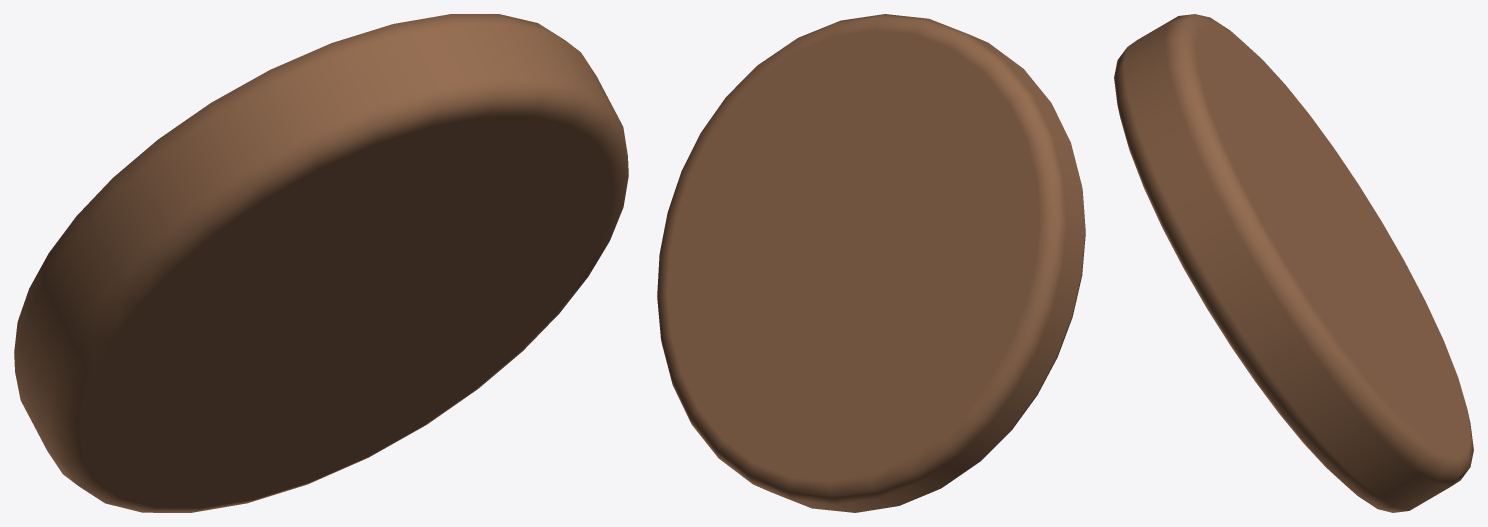
File: goatee.glb
The picture shows the model from 3 angles, left to right: view 1: azimuth 30°, elevation 25°; view 2: azimuth 150°, elevation 25°; view 3: azimuth 270°, elevation 25°; orthographic projection. The views are drawn at different scales.
Visible parts, largest first — view 1: goatee_Head; view 2: goatee_Head; view 3: goatee_Head.
Part boxes in pixels (<box>): goatee_Head: <box>14,14,628,512</box>; goatee_Head: <box>657,14,1085,512</box>; goatee_Head: <box>1114,14,1473,512</box>.
Size of the model in its own units: 0.1311 by 0.1332 by 0.0963.
